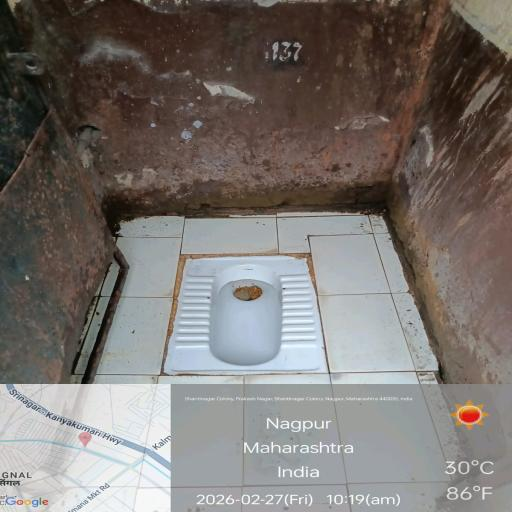dirty_indian: (56, 237, 490, 500), (182, 255, 337, 381)
partial_dirty_floor: (46, 32, 476, 232)
